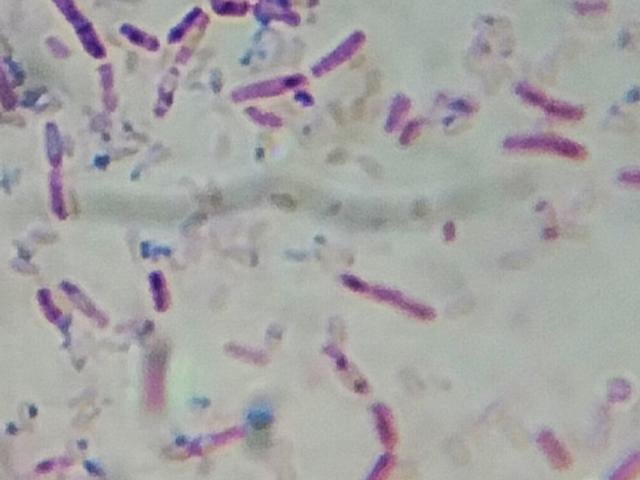E. coli: (338, 270, 438, 324), (518, 76, 588, 121), (508, 128, 590, 165), (314, 31, 371, 77), (66, 0, 108, 55), (324, 338, 366, 391), (56, 275, 101, 318), (366, 400, 404, 449), (145, 264, 177, 322), (534, 426, 576, 470), (229, 79, 306, 99), (93, 61, 121, 113), (118, 21, 160, 53), (167, 2, 200, 38), (156, 67, 176, 117), (45, 125, 69, 166), (47, 171, 68, 217), (34, 286, 60, 322), (260, 5, 297, 28), (389, 88, 407, 133), (365, 451, 393, 478), (213, 0, 247, 19)
